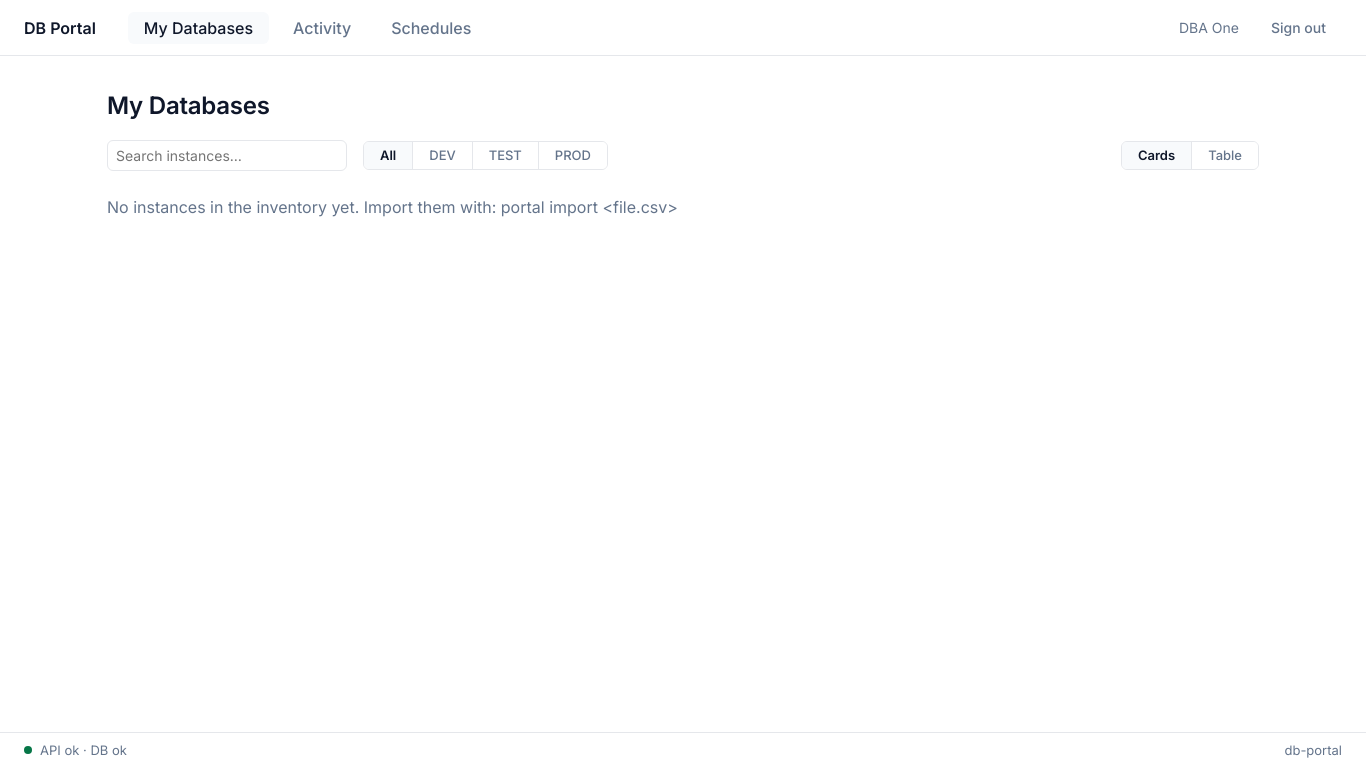
Test: a failed sign-out keeps the session and says so
The image size is (1366, 768).
Expected: the navigation bar named "Primary" is shown, [128,12,487,44]
Click the button "Sign out": click(1298, 28) [1255,13,1342,42]
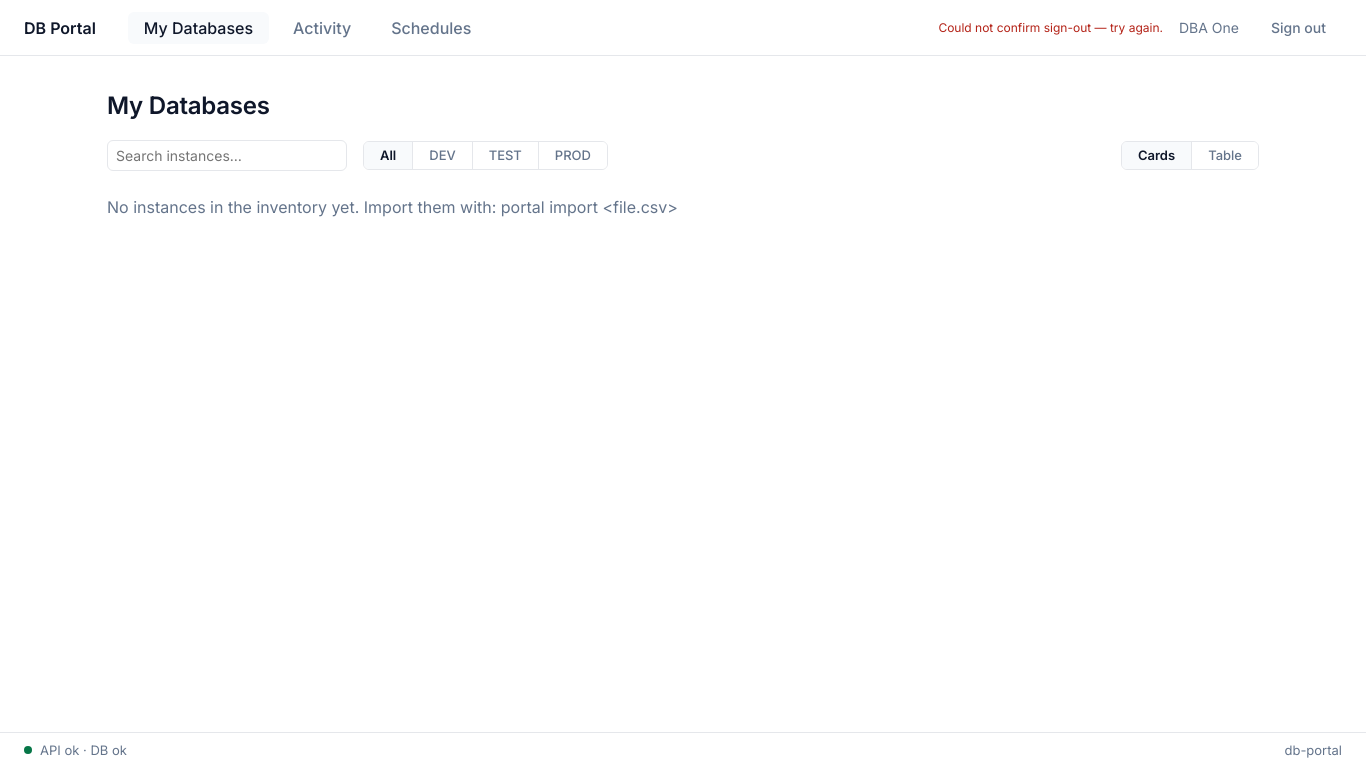
Expected: the text "DBA One" is shown, [1179,17,1239,38]
Now the message "Could not confirm sign-out — try again." is shown, box [938,18,1163,36]
